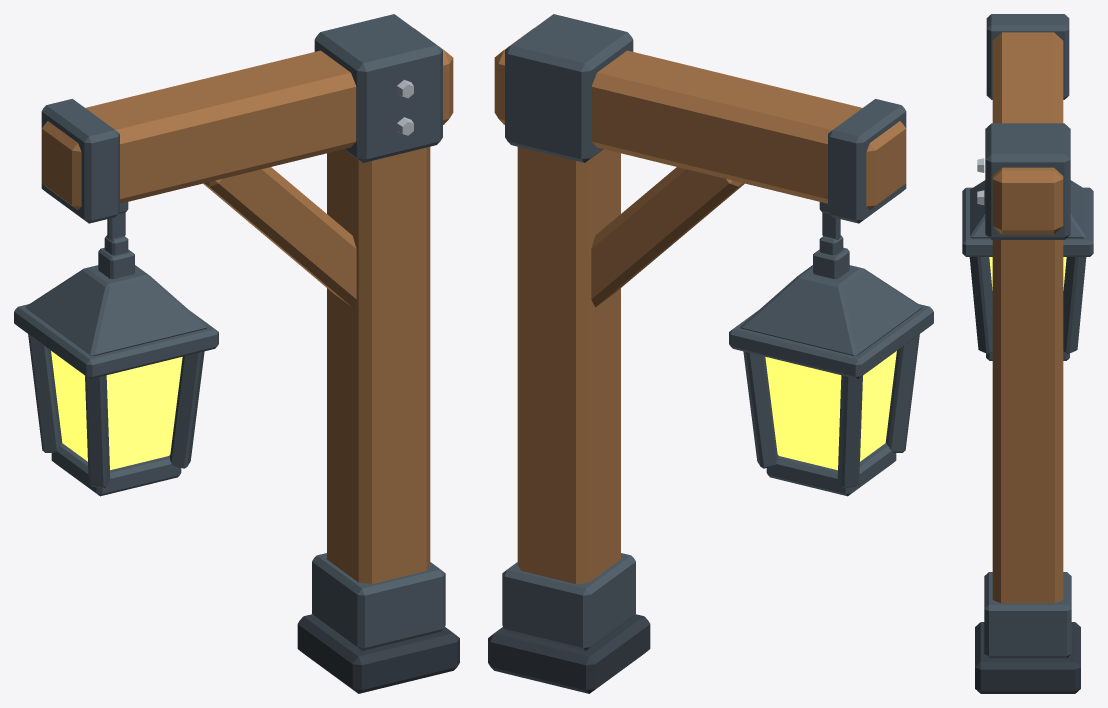
The model's file is Terminal_LampBracket.fbx.
3 renders of one model, left to right at view 1: azimuth 30°, elevation 25°; view 2: azimuth 150°, elevation 25°; view 3: azimuth 270°, elevation 25°, orthographic. The views are drawn at different scales.
Parts seen in each view (by area): view 1: Wood, Frame, Glow, FrameDark; view 2: Wood, Frame, Glow, FrameDark; view 3: Wood, Frame, FrameDark.
Part boxes in pixels (x1,y1,x2,y2): Wood: (41,28,453,584); Frame: (14,14,445,650); Glow: (51,351,182,470); FrameDark: (297,614,459,693); Wood: (494,28,906,584); Frame: (502,14,933,650); Glow: (765,351,896,470); FrameDark: (488,614,650,693); Wood: (992,32,1063,603); Frame: (962,14,1093,658); FrameDark: (975,622,1080,693).
Bounding box in the file's own units: 3.26 × 5 × 1.11.
